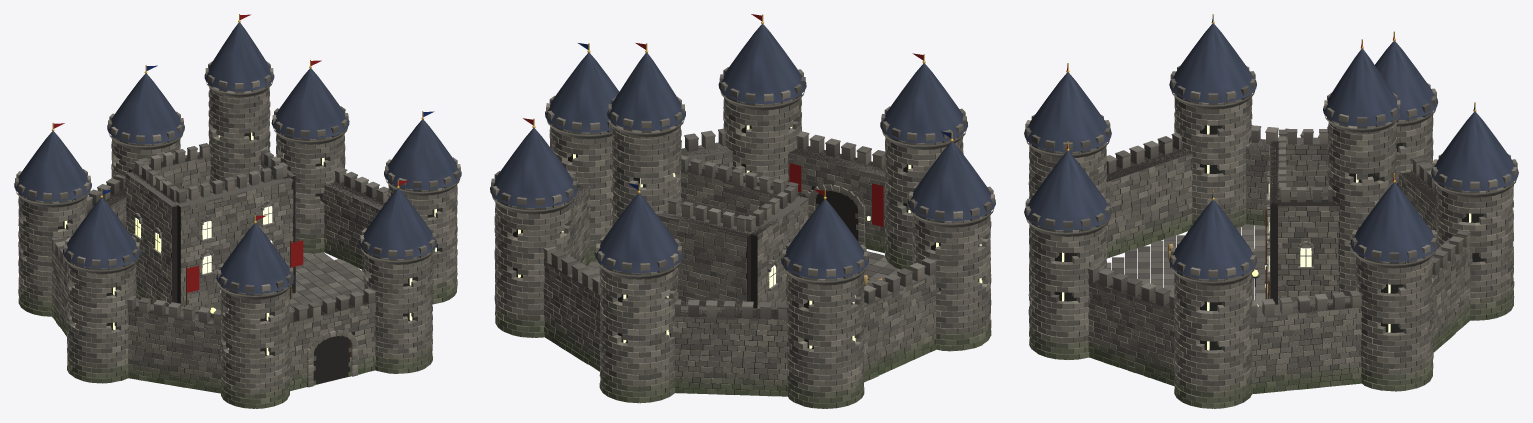
File: castle.glb
3 views of the same model, side by side, from view 1: azimuth 30°, elevation 25°; view 2: azimuth 150°, elevation 25°; view 3: azimuth 270°, elevation 25° (orthographic). The views are drawn at different scales.
Visible parts, largest first — view 1: castle; view 2: castle; view 3: castle.
Part boxes in pixels (<box>): castle: <box>14,14,461,408</box>; castle: <box>490,14,995,408</box>; castle: <box>1024,14,1518,408</box>.
Size of the model in its own units: 44.85 by 28.48 by 43.92.
